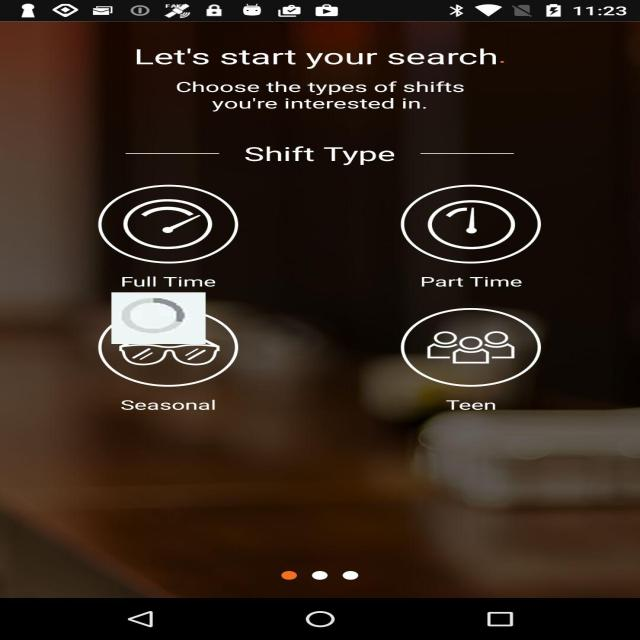misdirection: (111, 292, 206, 344)
